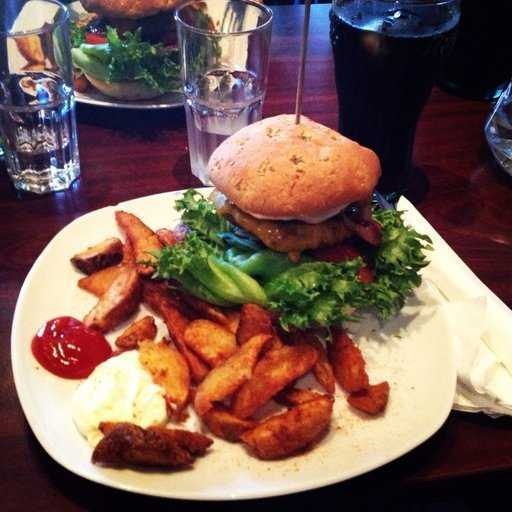hamburger: (191, 113, 386, 261)
